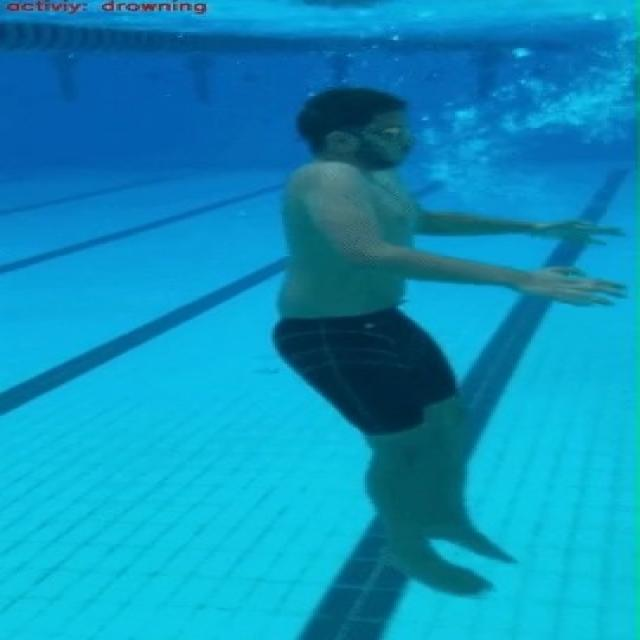Drowning: (266, 83, 632, 598)
